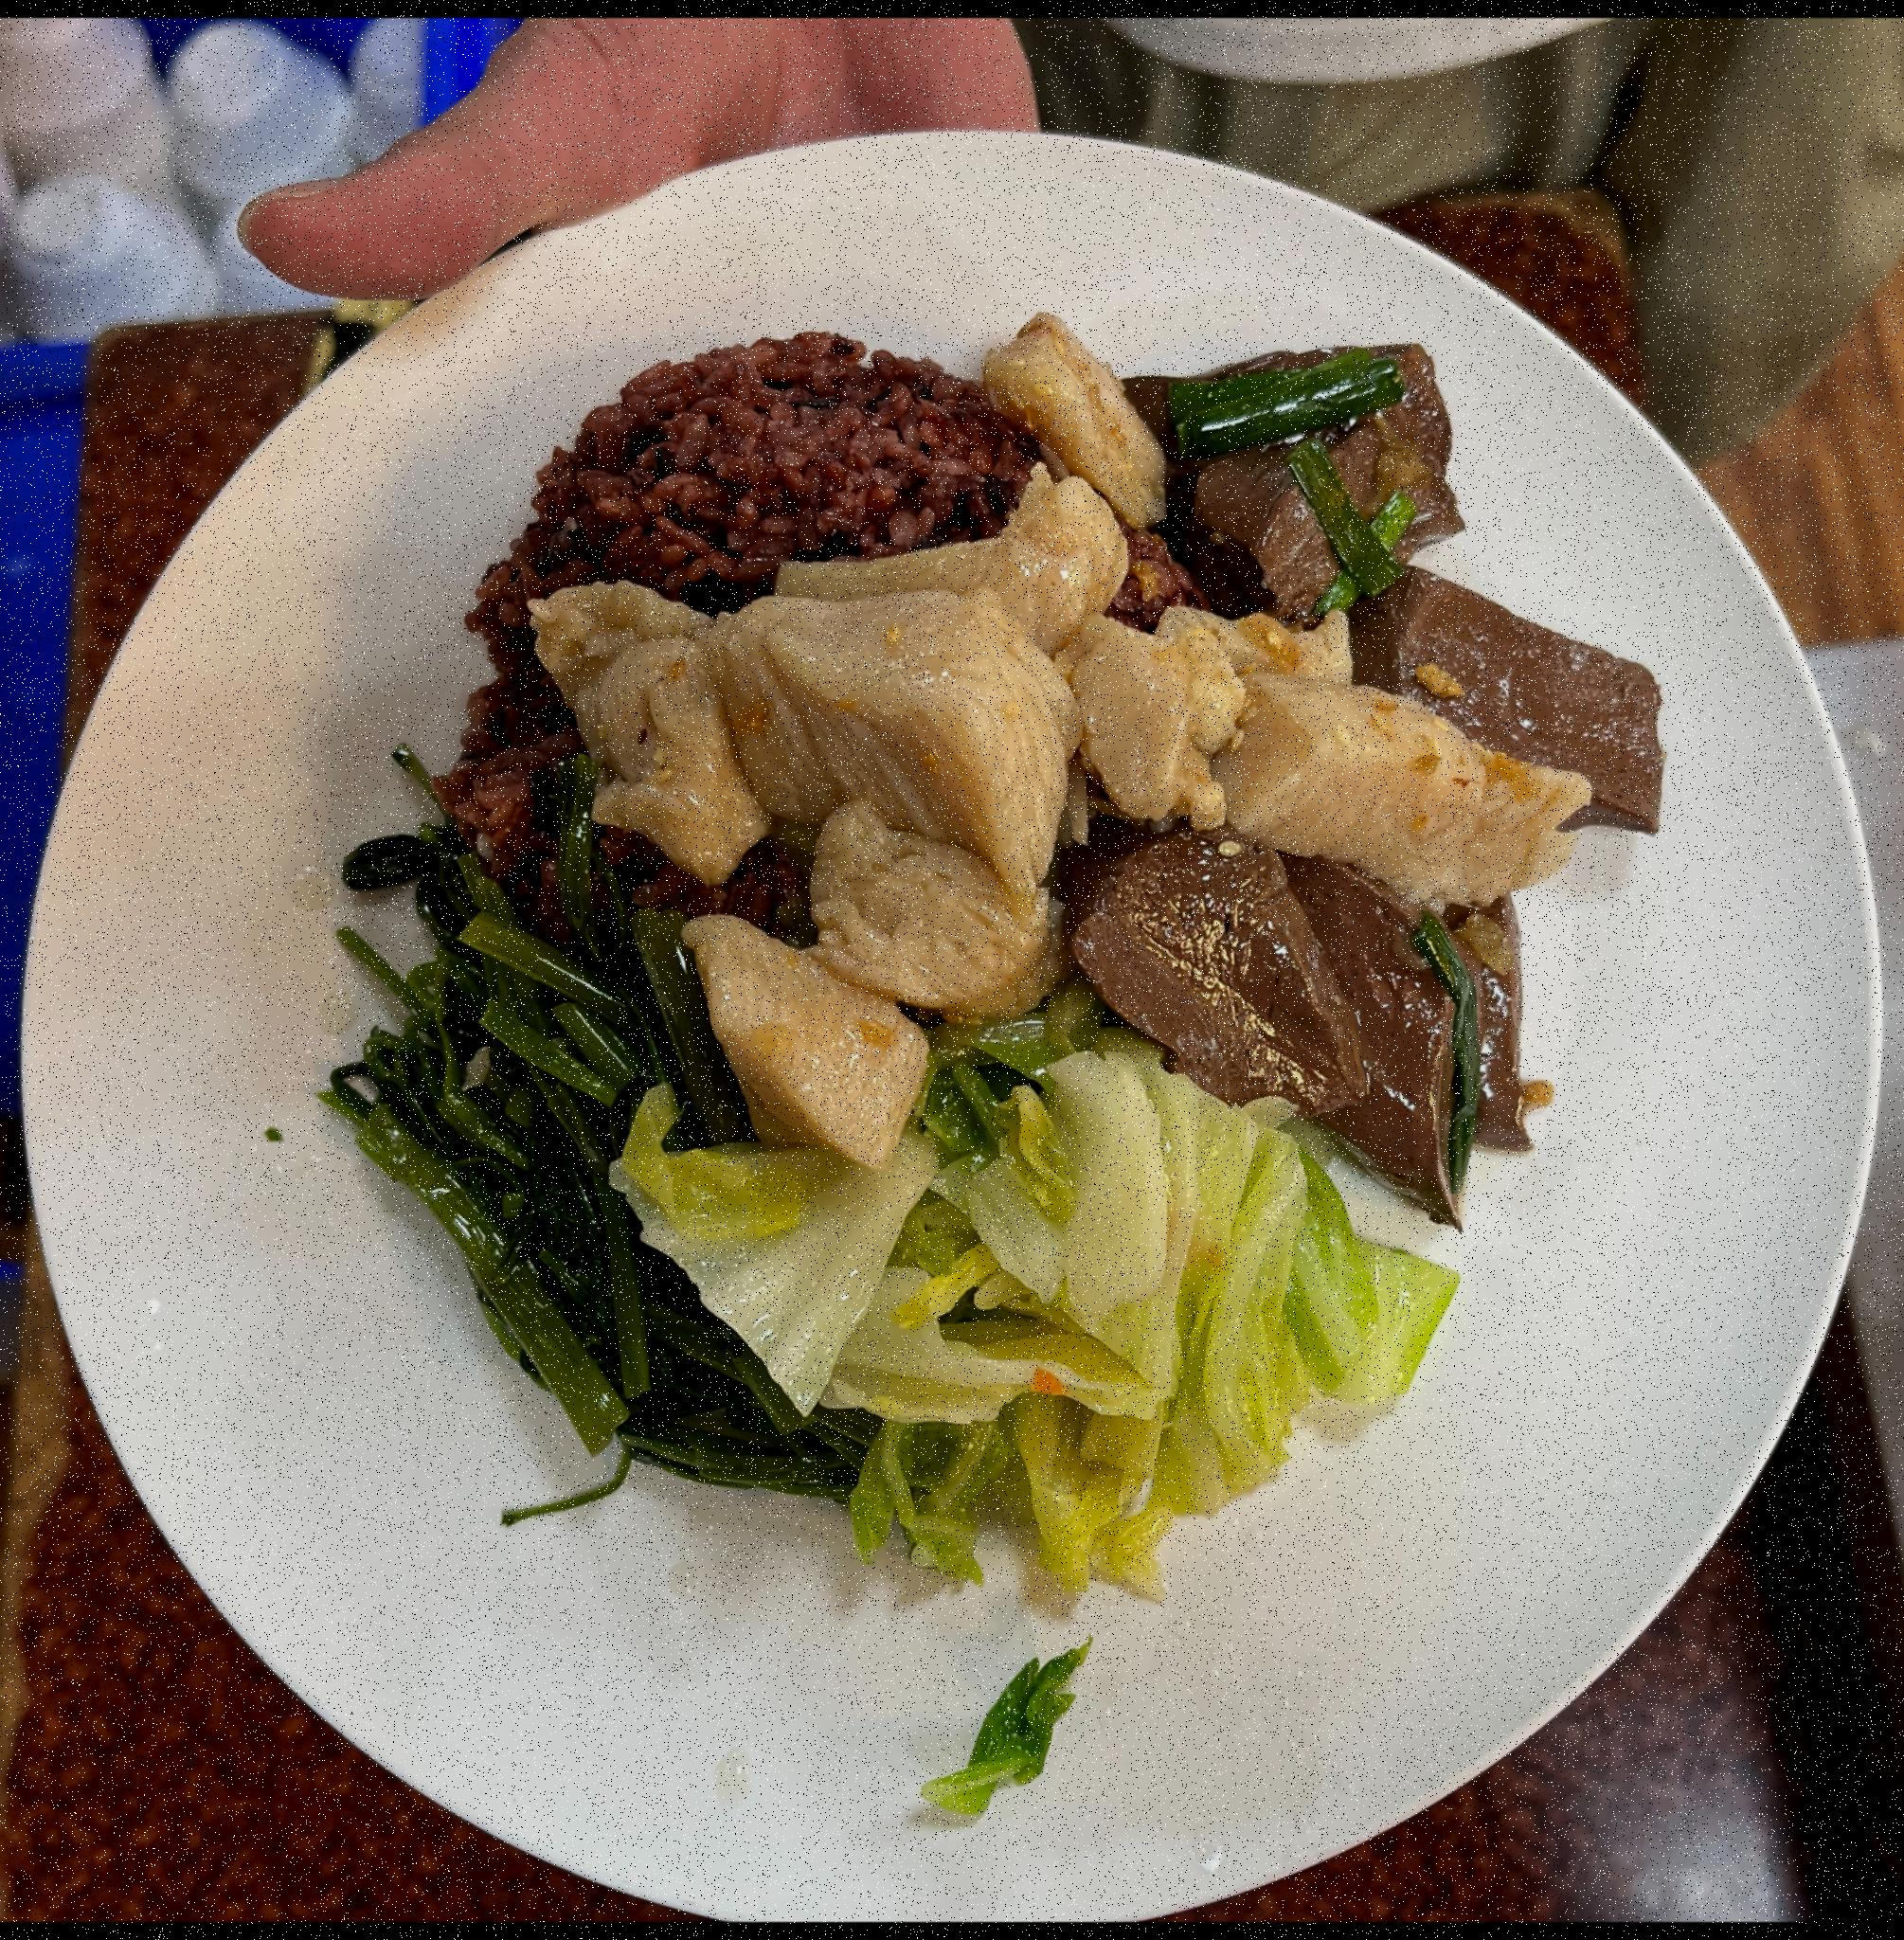big fried chicken leg: (0, 115, 1889, 1913)
braised fish: (497, 320, 1132, 1027)
braised fish fillet: (1091, 296, 1660, 1183), (663, 1017, 1416, 1612), (377, 835, 862, 1555)
braised pork: (527, 483, 1540, 1152)
